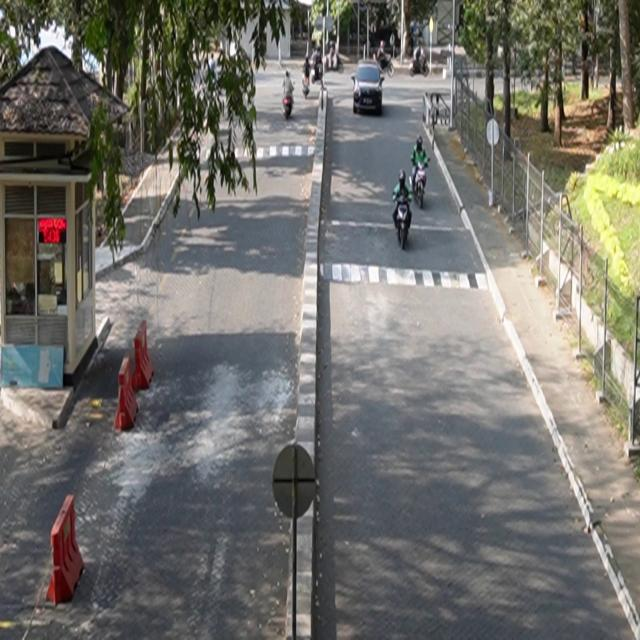car: (352, 60, 385, 116)
